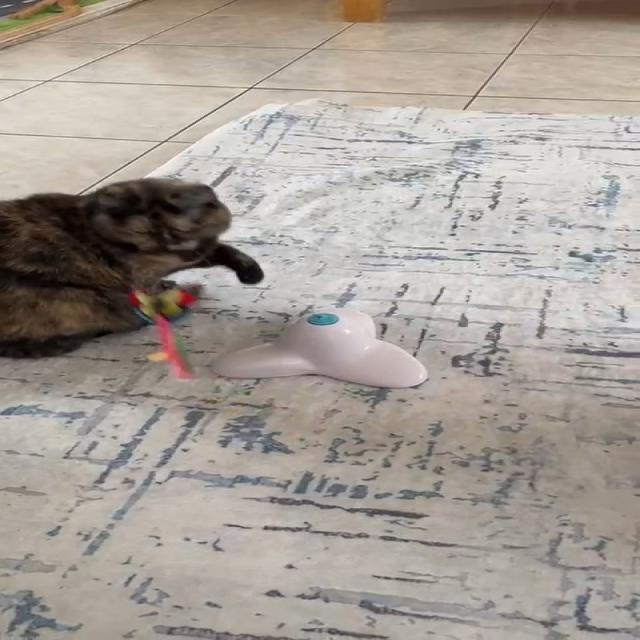authorized: (0, 176, 264, 359)
